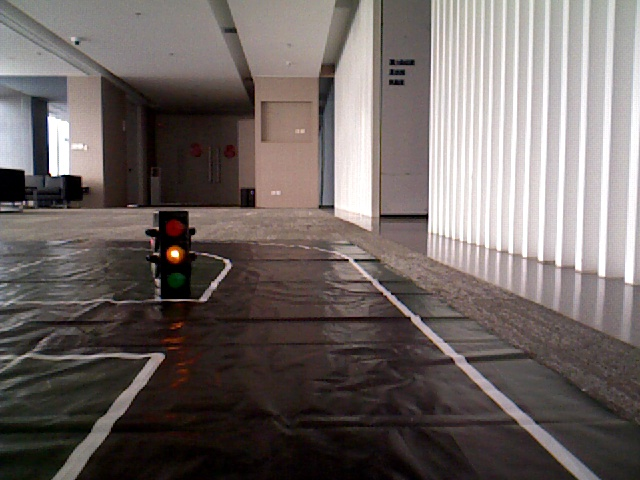yellow: (157, 215, 188, 286)
